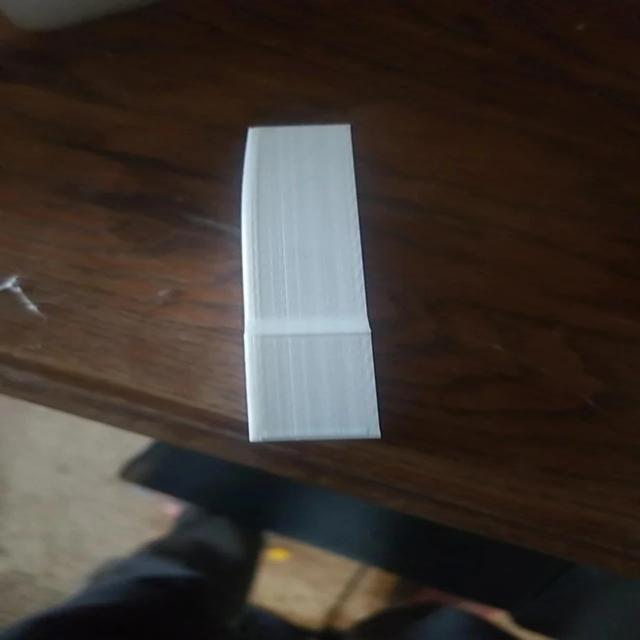4: (233, 126, 270, 193)
spaghetti: (247, 221, 266, 234), (249, 238, 266, 248), (250, 263, 264, 274), (250, 251, 262, 262), (252, 298, 264, 308), (252, 288, 266, 296), (253, 275, 264, 285)
